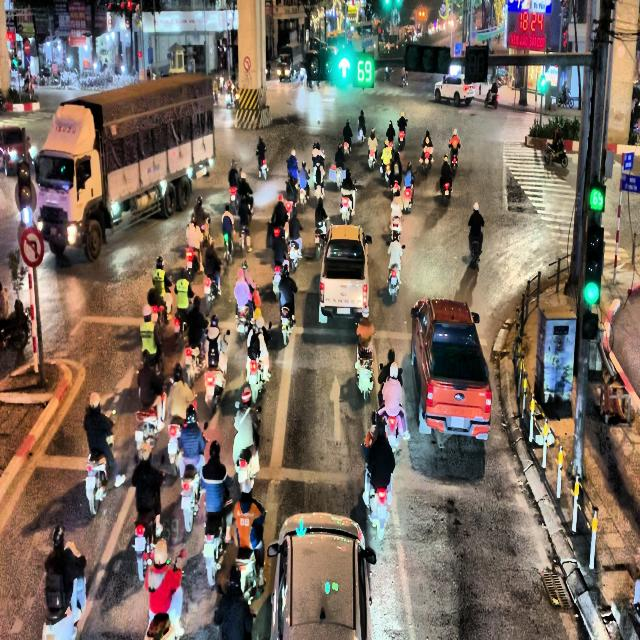lisence_plate: (446, 413, 468, 430), (335, 306, 352, 317)
